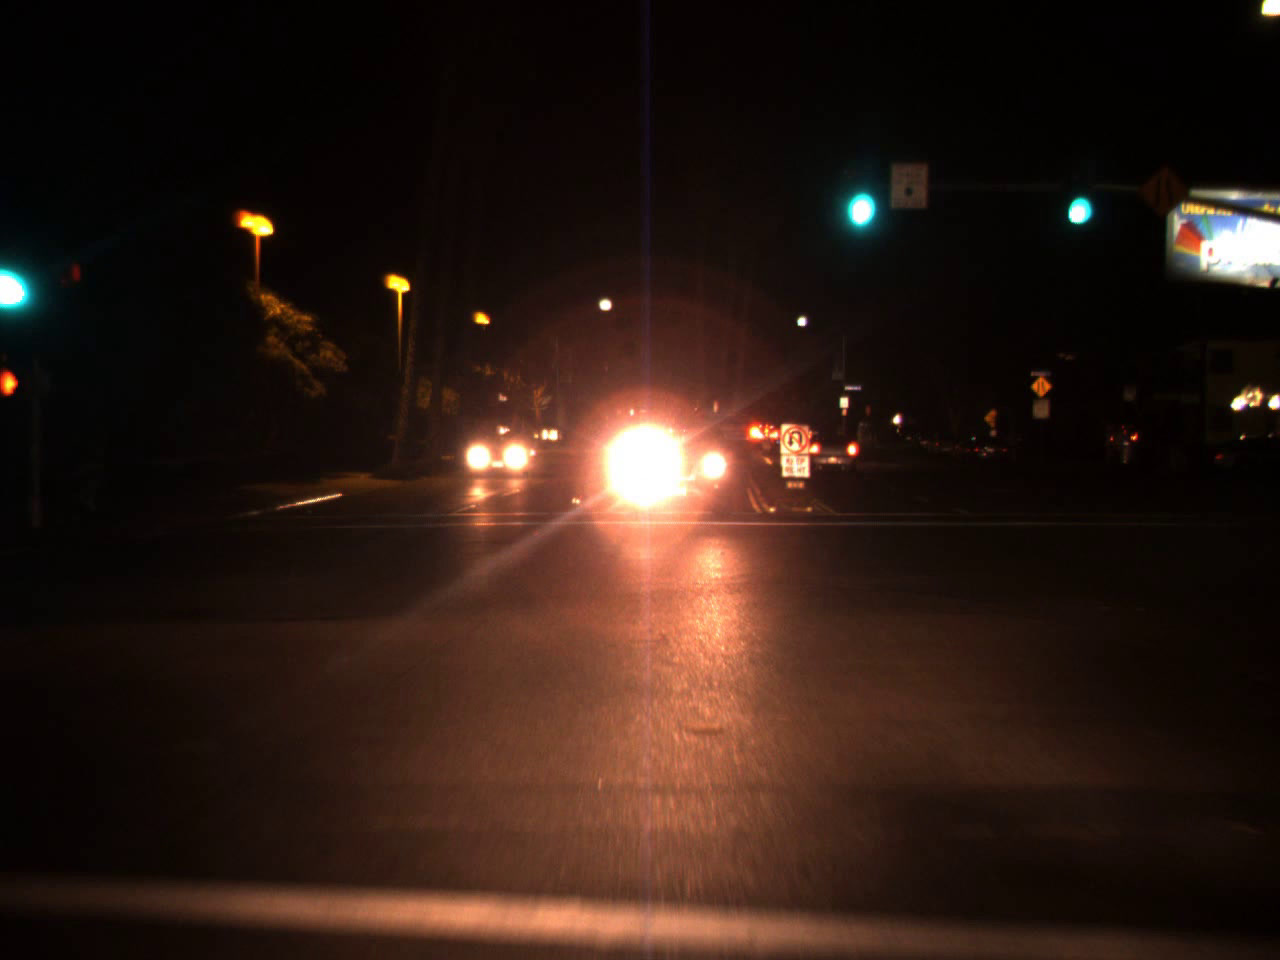go: (835, 151, 881, 238), (0, 234, 31, 318), (1063, 164, 1095, 233)
